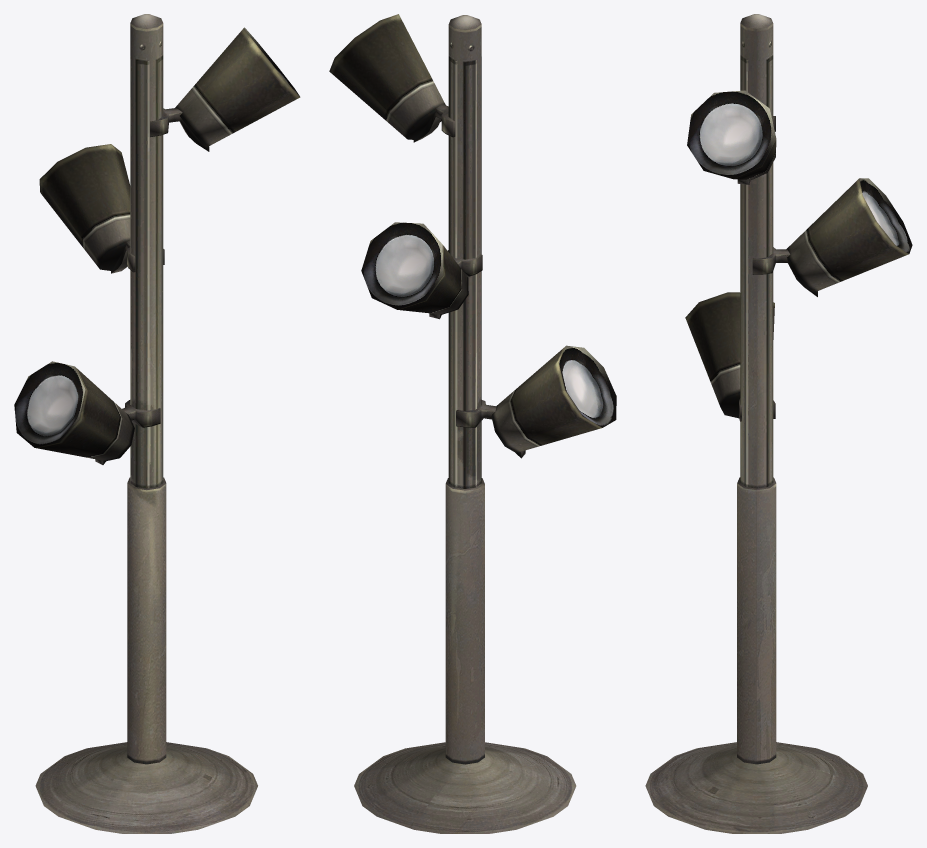
Rendered from lamp1.glb.
3 renders of one model, left to right at view 1: azimuth 30°, elevation 25°; view 2: azimuth 150°, elevation 25°; view 3: azimuth 270°, elevation 25°, orthographic.
Parts seen in each view (by area): view 1: Cylinder01; view 2: Cylinder01; view 3: Cylinder01.
Part boxes in pixels (bbox=[...]): Cylinder01: bbox=[14, 14, 300, 833]; Cylinder01: bbox=[329, 14, 616, 833]; Cylinder01: bbox=[645, 14, 912, 833].
Size of the model in its own units: 38.95 by 107 by 33.39.
1 material, 1 textured.
